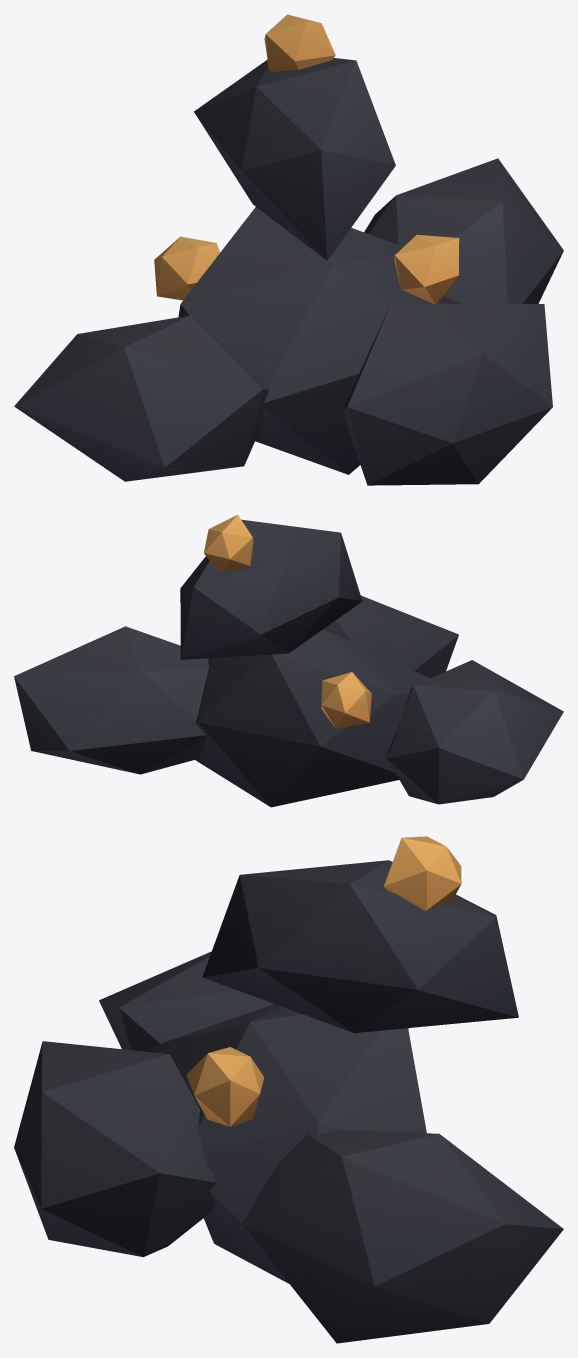
The model's file is item_fuel_charcoal.glb.
3 renders of one model, top to bottom at view 1: azimuth 30°, elevation 25°; view 2: azimuth 150°, elevation 25°; view 3: azimuth 270°, elevation 25°, orthographic. The views are drawn at different scales.
Parts seen in each view (by area): view 1: item_fuel_charcoal; view 2: item_fuel_charcoal; view 3: item_fuel_charcoal.
Part boxes in pixels (x1,y1,x2,y2): item_fuel_charcoal: (14,14,563,485); item_fuel_charcoal: (14,514,563,807); item_fuel_charcoal: (14,836,563,1343).
Size of the model in its own units: 1.36 by 0.8664 by 1.01.
Materials: 1 (1 with a texture image).
